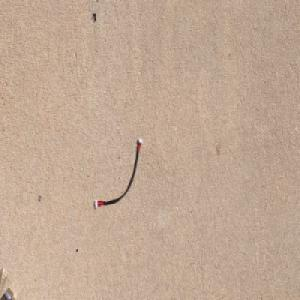Wire: (94, 137, 143, 210)
